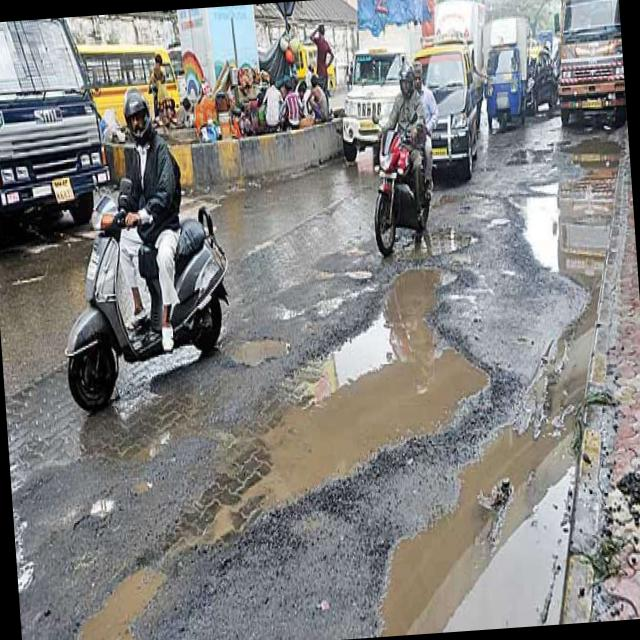Potholes: (0, 215, 539, 640), (327, 98, 640, 638), (215, 307, 293, 386)
